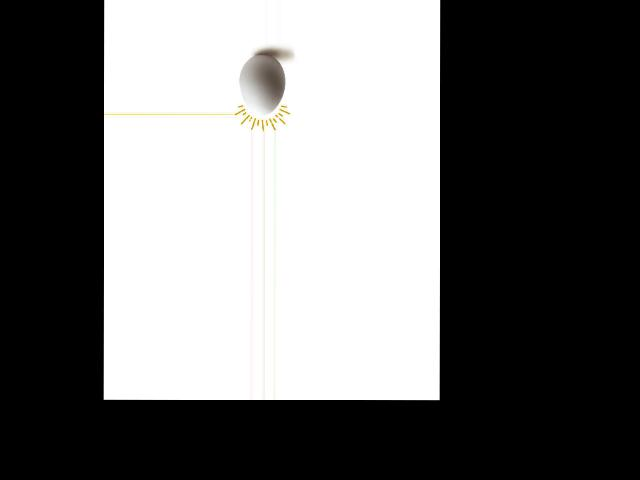egg: (238, 54, 284, 114)
